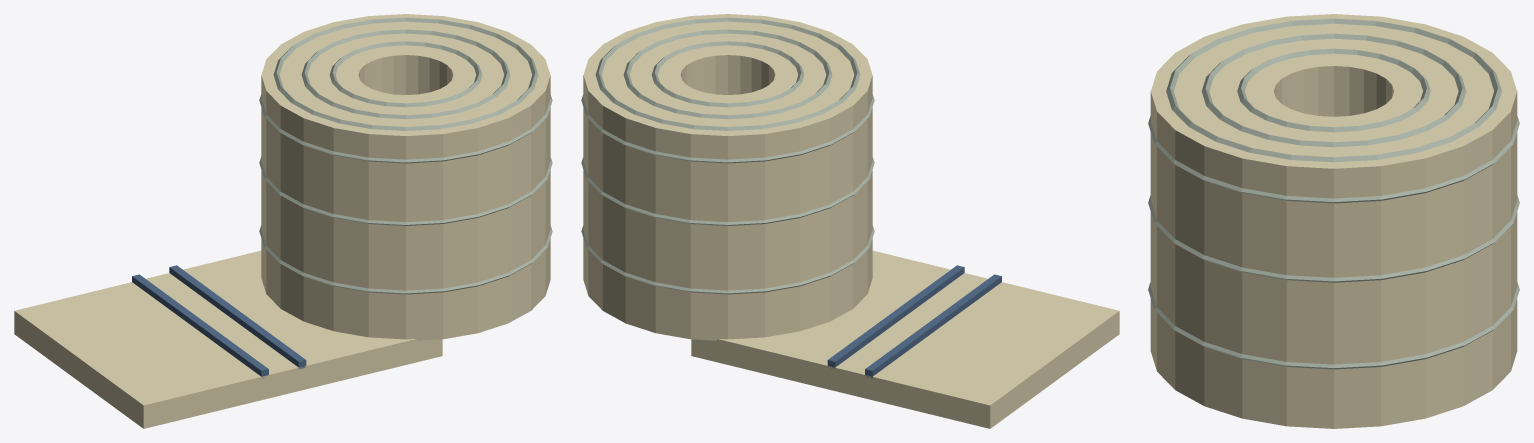
File: AE_Item_LinenBandage.fbx
3 renders of one model, left to right at view 1: azimuth 30°, elevation 25°; view 2: azimuth 150°, elevation 25°; view 3: azimuth 270°, elevation 25°, orthographic. The views are drawn at different scales.
Visible parts, largest first — view 1: AE_Item_LinenBandage; view 2: AE_Item_LinenBandage; view 3: AE_Item_LinenBandage.
Boxes of the visible parts, box(x1,y1,x2,y2) form: AE_Item_LinenBandage: box(14, 14, 552, 428); AE_Item_LinenBandage: box(581, 14, 1119, 428); AE_Item_LinenBandage: box(1148, 14, 1519, 428).
Size of the model in its own units: 0.243 by 0.1174 by 0.136.
